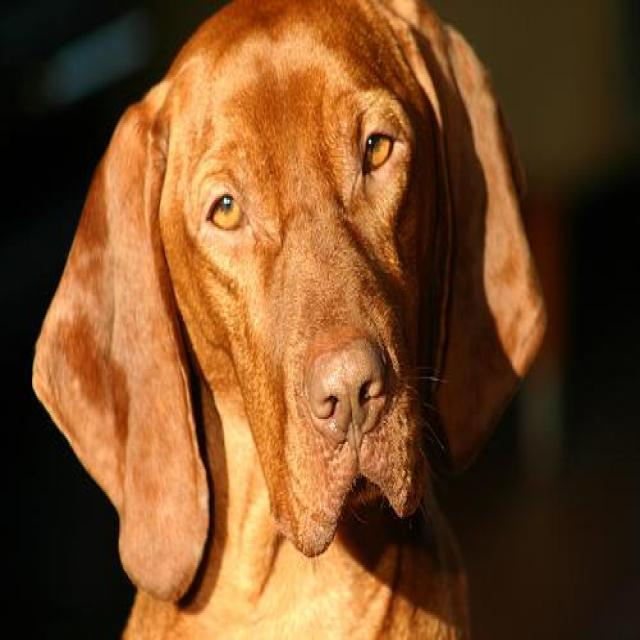vizsla: (29, 0, 552, 638)
